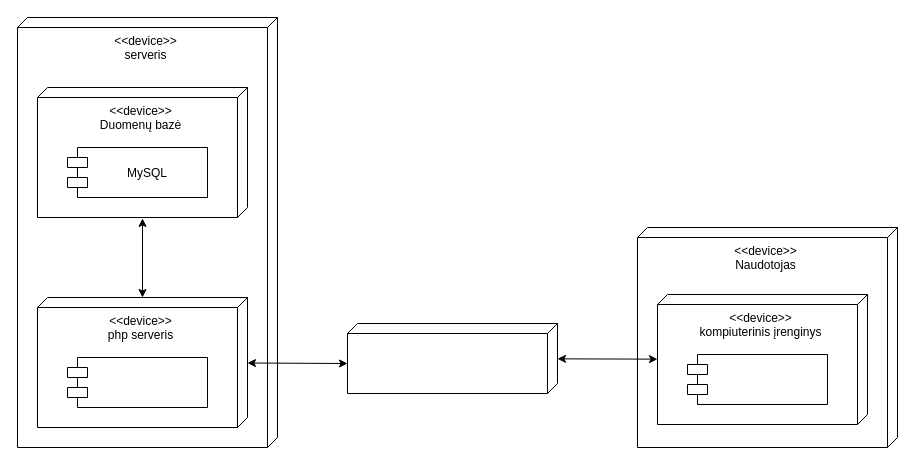
Some shapes in this 915 by 465 pixel diagram are drawn without their labels. Each missing label, with the centre of its shape:
"<<device>> maršrutizatorius" belongs at (x=452, y=358).
"apache2" belongs at (x=137, y=382).
"naršyklė" belongs at (x=757, y=379).
